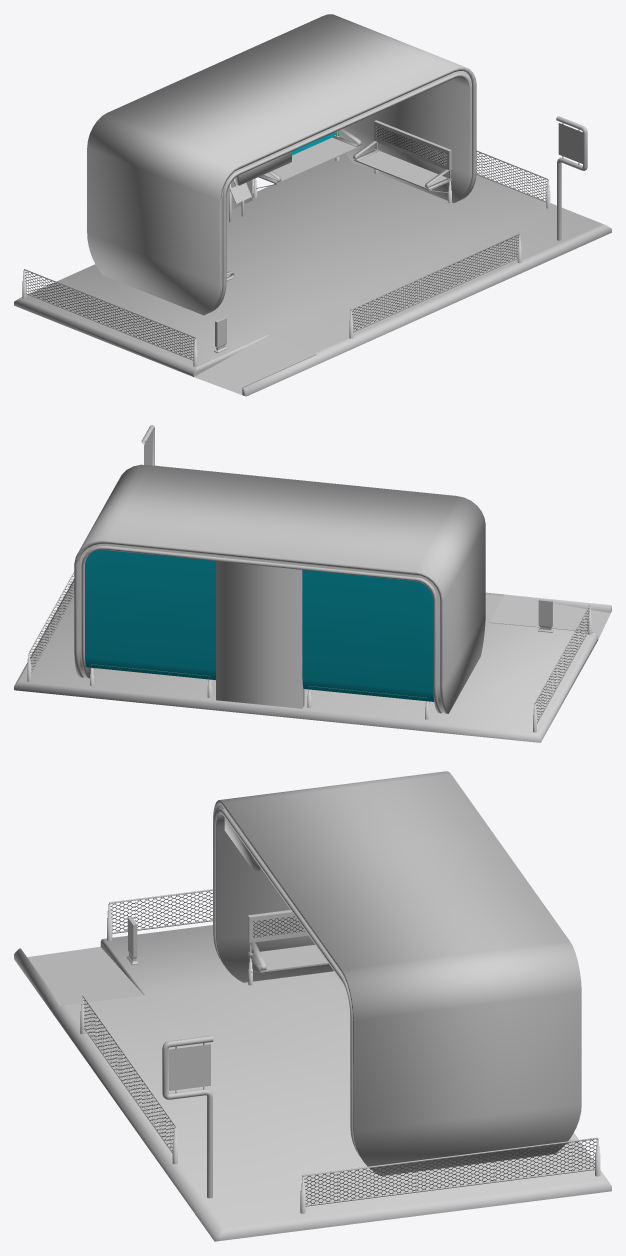
File: Modern-Bus-Stop.fbx
3 renders of one model, top to bottom at view 1: azimuth 30°, elevation 25°; view 2: azimuth 150°, elevation 25°; view 3: azimuth 270°, elevation 25°, orthographic. The views are drawn at different scales.
Parts seen in each view (by area): view 1: bus_stop, fence, emission; view 2: bus_stop, glass, emission, fence; view 3: bus_stop, fence.
Boxes of the visible parts, bbox=[...] form: bus_stop: bbox=[14, 14, 611, 396]; fence: bbox=[25, 153, 546, 358]; emission: bbox=[219, 71, 471, 299]; bus_stop: bbox=[14, 425, 611, 742]; glass: bbox=[85, 550, 433, 701]; emission: bbox=[79, 544, 443, 712]; fence: bbox=[30, 576, 589, 721]; bus_stop: bbox=[14, 771, 611, 1241]; fence: bbox=[83, 891, 596, 1204].
Bounding box in the file's own units: 1397 × 395 × 1056.
